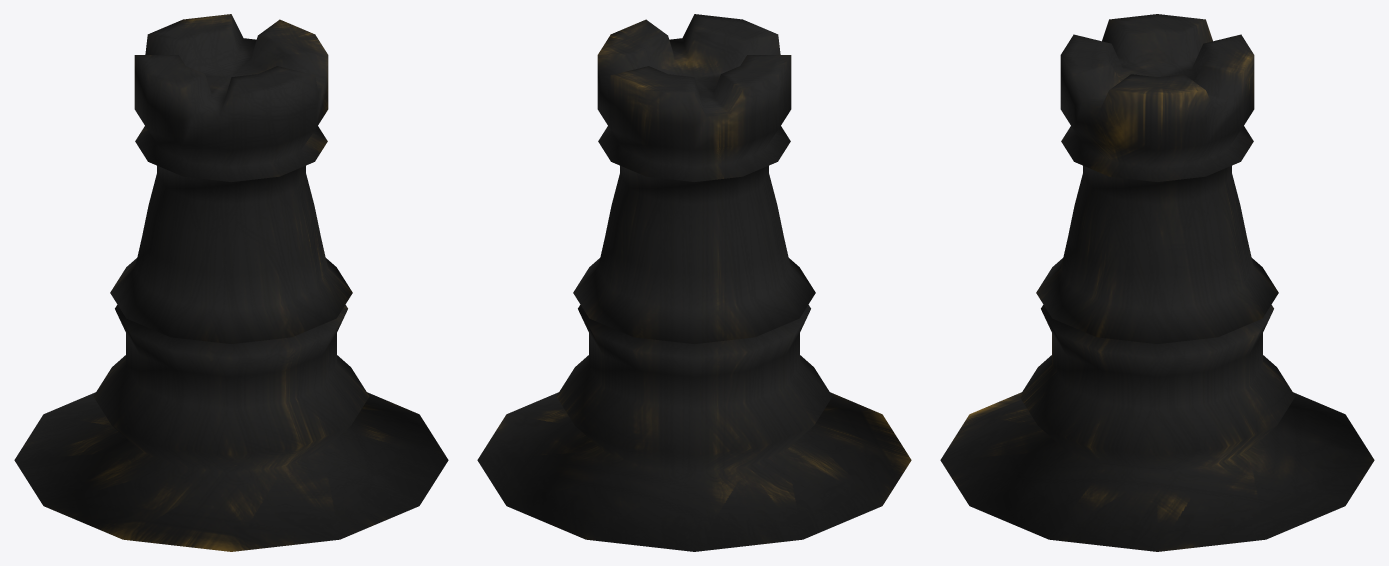
Rendered from Black Rook.fbx.
3 renders of one model, left to right at view 1: azimuth 30°, elevation 25°; view 2: azimuth 150°, elevation 25°; view 3: azimuth 270°, elevation 25°, orthographic.
Visible parts, largest first — view 1: White_Rook:Rook_Piece:cylinder; view 2: White_Rook:Rook_Piece:cylinder; view 3: White_Rook:Rook_Piece:cylinder.
Boxes of the visible parts, bbox=[...] form: White_Rook:Rook_Piece:cylinder: bbox=[14, 14, 448, 551]; White_Rook:Rook_Piece:cylinder: bbox=[477, 14, 911, 551]; White_Rook:Rook_Piece:cylinder: bbox=[940, 14, 1374, 551].
Size of the model in its own units: 4.12 by 4.24 by 4.12.
Materials: 1 (1 with a texture image).
